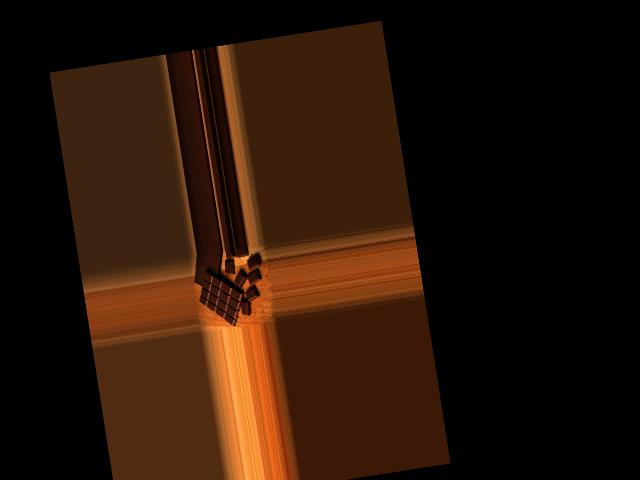chocolate: (194, 265, 250, 329)
